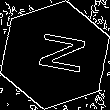N_W: (25, 31, 85, 79)
